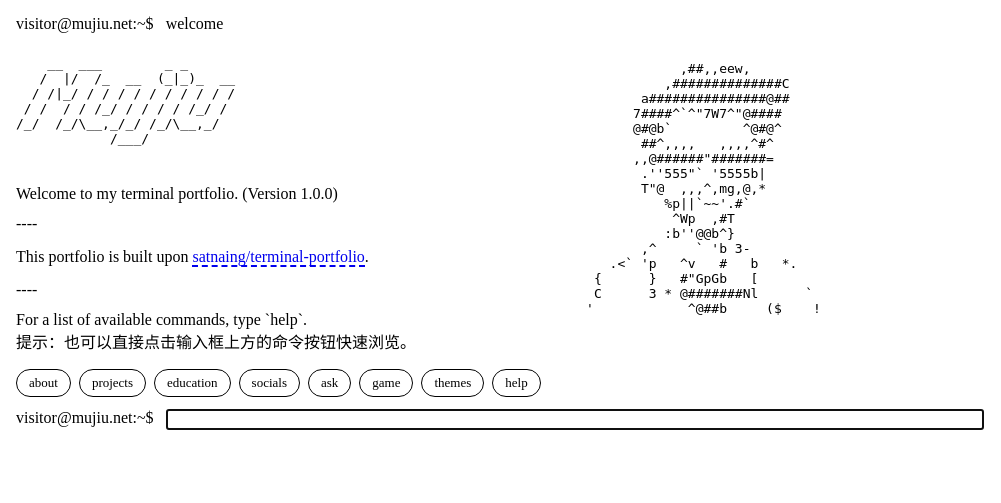
Test: Terminal Component › Input Commands › should return 'visitor' when user type 'whoami' cmd
Type "whoami" into the field titled "terminal-input" at (575, 420), box [166,409,984,430]
Then press Enter
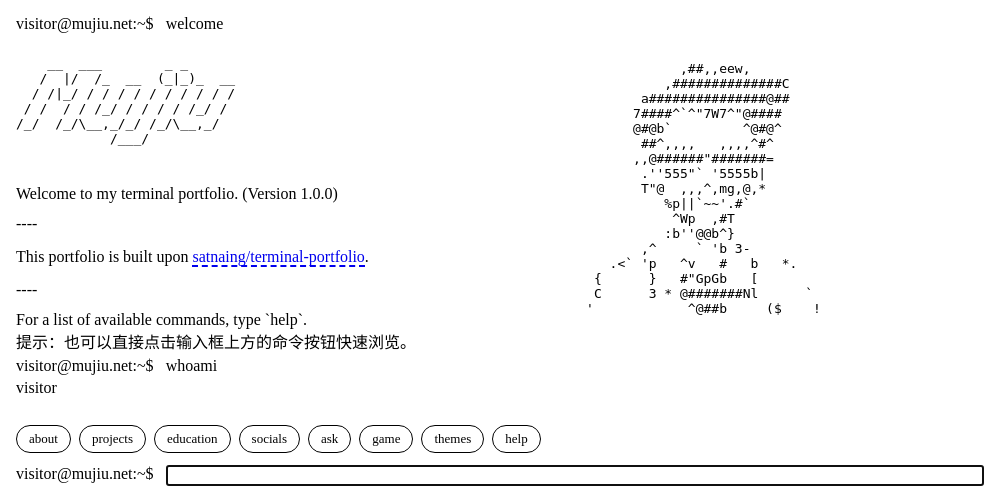
Now the 3rd text "visitor" is shown, box [16,379,57,396]
